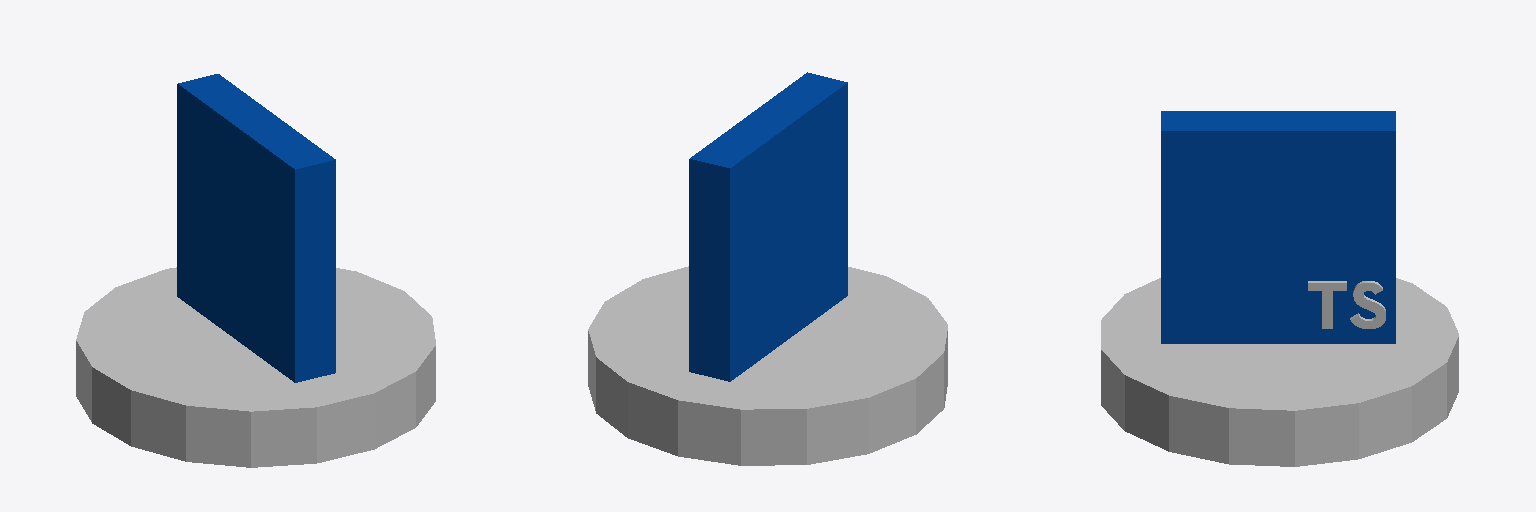
The model's file is ts_old.obj.
3 views of the same model, side by side, from view 1: azimuth 30°, elevation 25°; view 2: azimuth 150°, elevation 25°; view 3: azimuth 270°, elevation 25° (orthographic).
Parts seen in each view (by area): view 1: Circle_Circle.001, Cube.002; view 2: Circle_Circle.001, Cube.002; view 3: Cube.002, Circle_Circle.001, Text.001.
Part boxes in pixels (x1,y1,x2,y2): Circle_Circle.001: (76,267,435,467); Cube.002: (177,74,335,382); Circle_Circle.001: (588,266,947,465); Cube.002: (689,72,847,381); Cube.002: (1161,111,1395,343); Circle_Circle.001: (1101,278,1458,466); Text.001: (1308,281,1385,328).
Size of the model in its own units: 1.29 by 1.07 by 1.29.